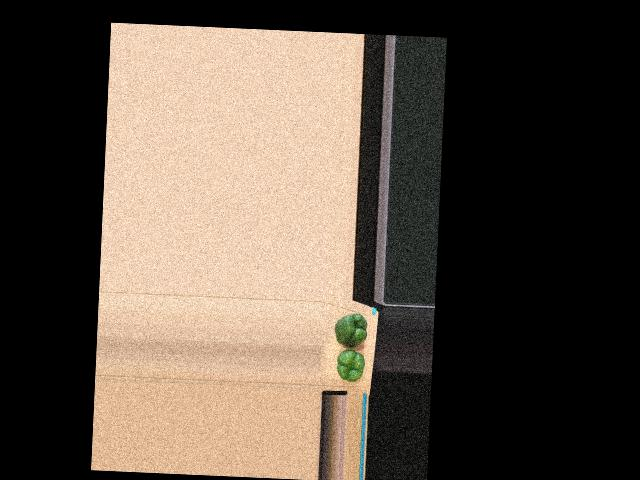bell_pepper: (332, 347, 365, 381)
